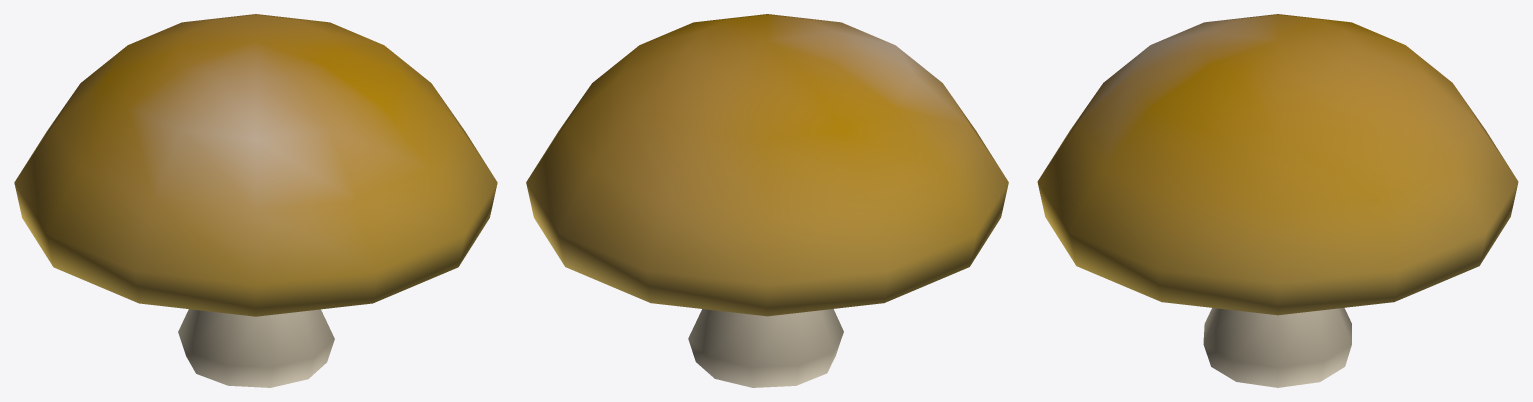
The model's file is food_mush_d.fbx.
3 views of the same model, side by side, from view 1: azimuth 30°, elevation 25°; view 2: azimuth 150°, elevation 25°; view 3: azimuth 270°, elevation 25° (orthographic).
Parts seen in each view (by area): view 1: food_mush_d; view 2: food_mush_d; view 3: food_mush_d.
Boxes of the visible parts, x1=… form: food_mush_d: x1=14, y1=14, x2=497, y2=387; food_mush_d: x1=526, y1=14, x2=1008, y2=387; food_mush_d: x1=1037, y1=14, x2=1518, y2=387.
Size of the model in its own units: 124 by 90 by 124.
